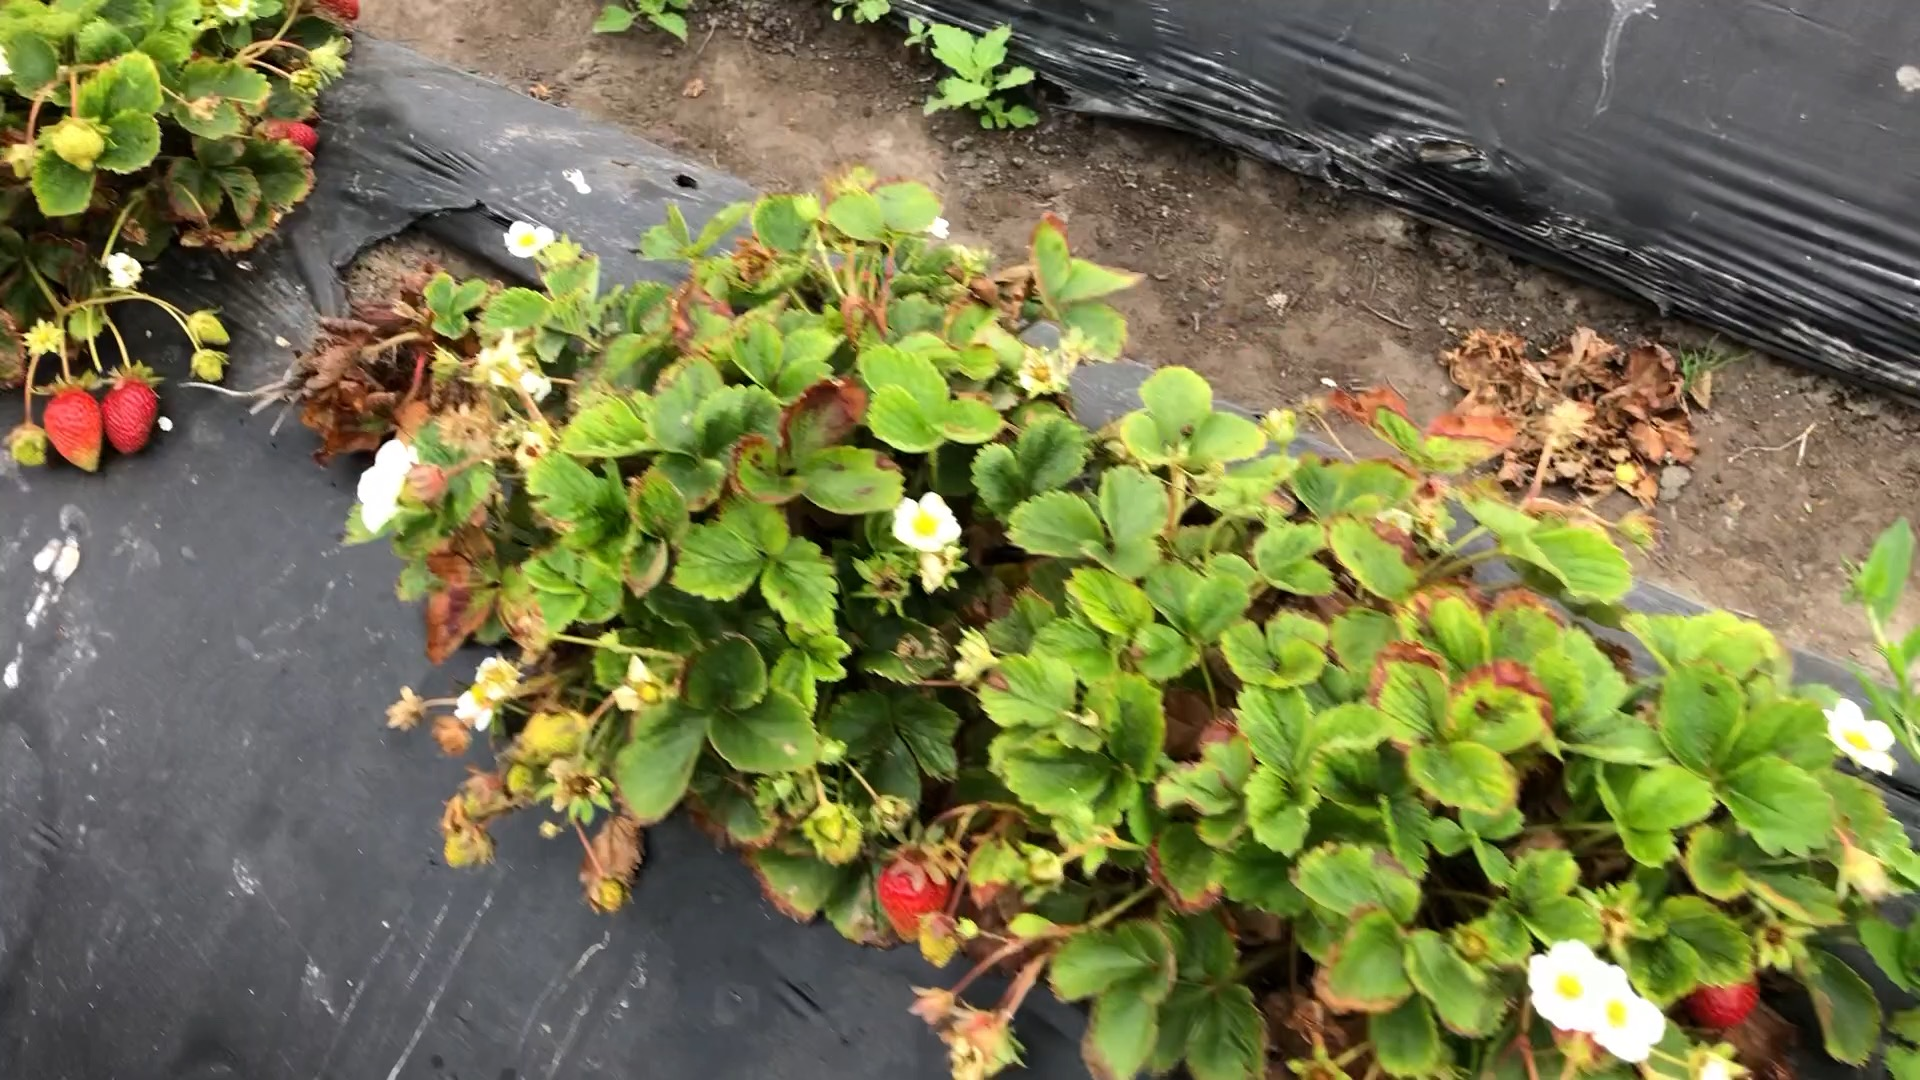ripe_strawberry: (880, 845, 953, 949), (40, 378, 108, 479), (98, 373, 164, 458), (1680, 975, 1759, 1030), (262, 119, 324, 156)
unripe_strawberry: (51, 117, 104, 175), (531, 709, 591, 758), (918, 909, 957, 971), (440, 820, 485, 874), (186, 311, 236, 349)
